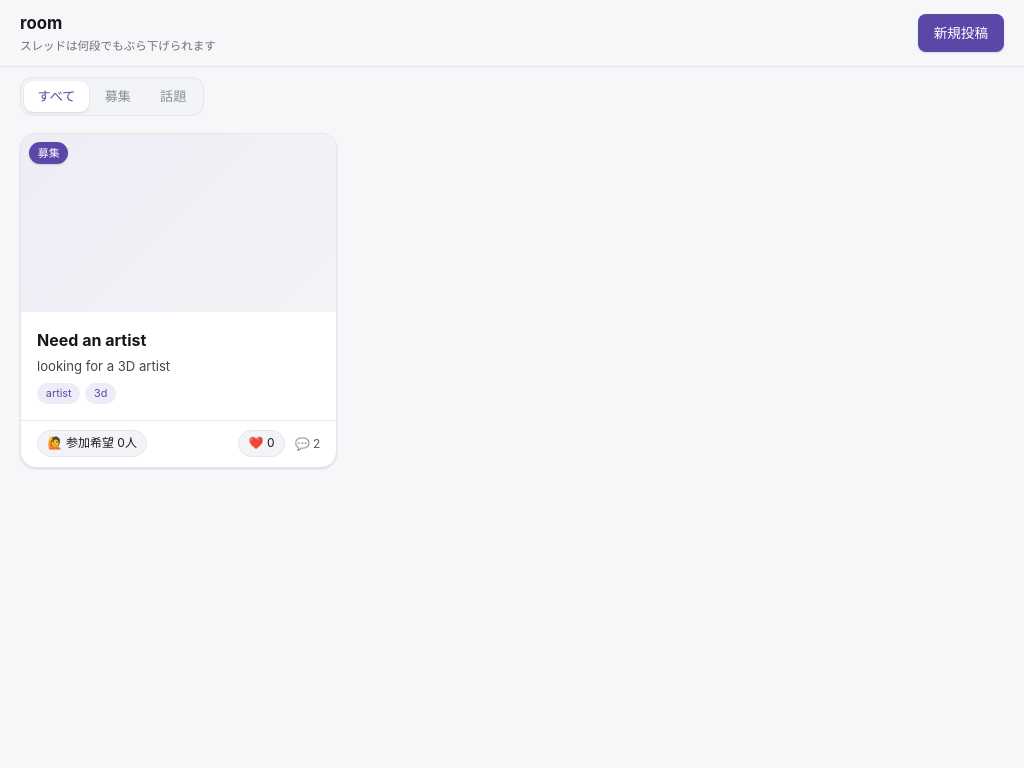
Test: ProjectBoard (recursive rendering) › すべて view shows a card grid; opening a card reveals the nested thread
Expected: the list item "artist" is shown, [37,383,80,404]
Expected: the list item "3d" is shown, [85,383,116,404]
# Opening the card shows the whole nested thread.
Click the heading "Need an artist". click: (92, 340)
box: [37,330,146,350]
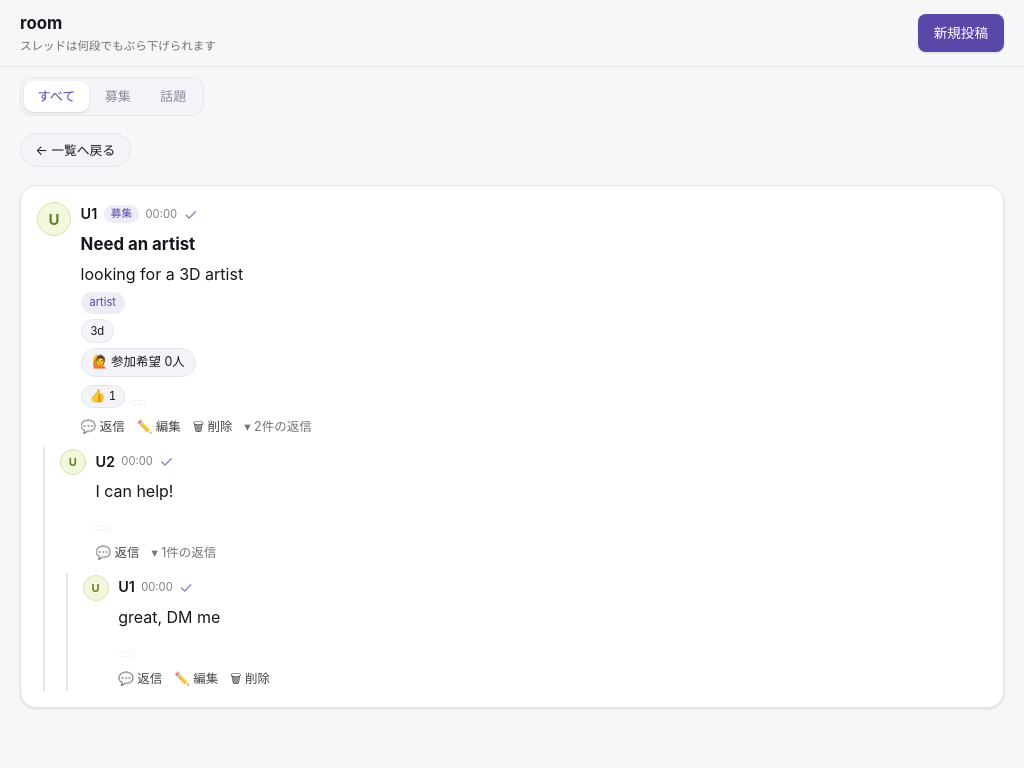
Expected: the text "I can help!" is shown, [95,481,174,501]
Expected: the text "great, DM me" is shown, [118,607,220,627]
Expected: the button "▾ 2件の返信" is shown, [244,416,312,439]
